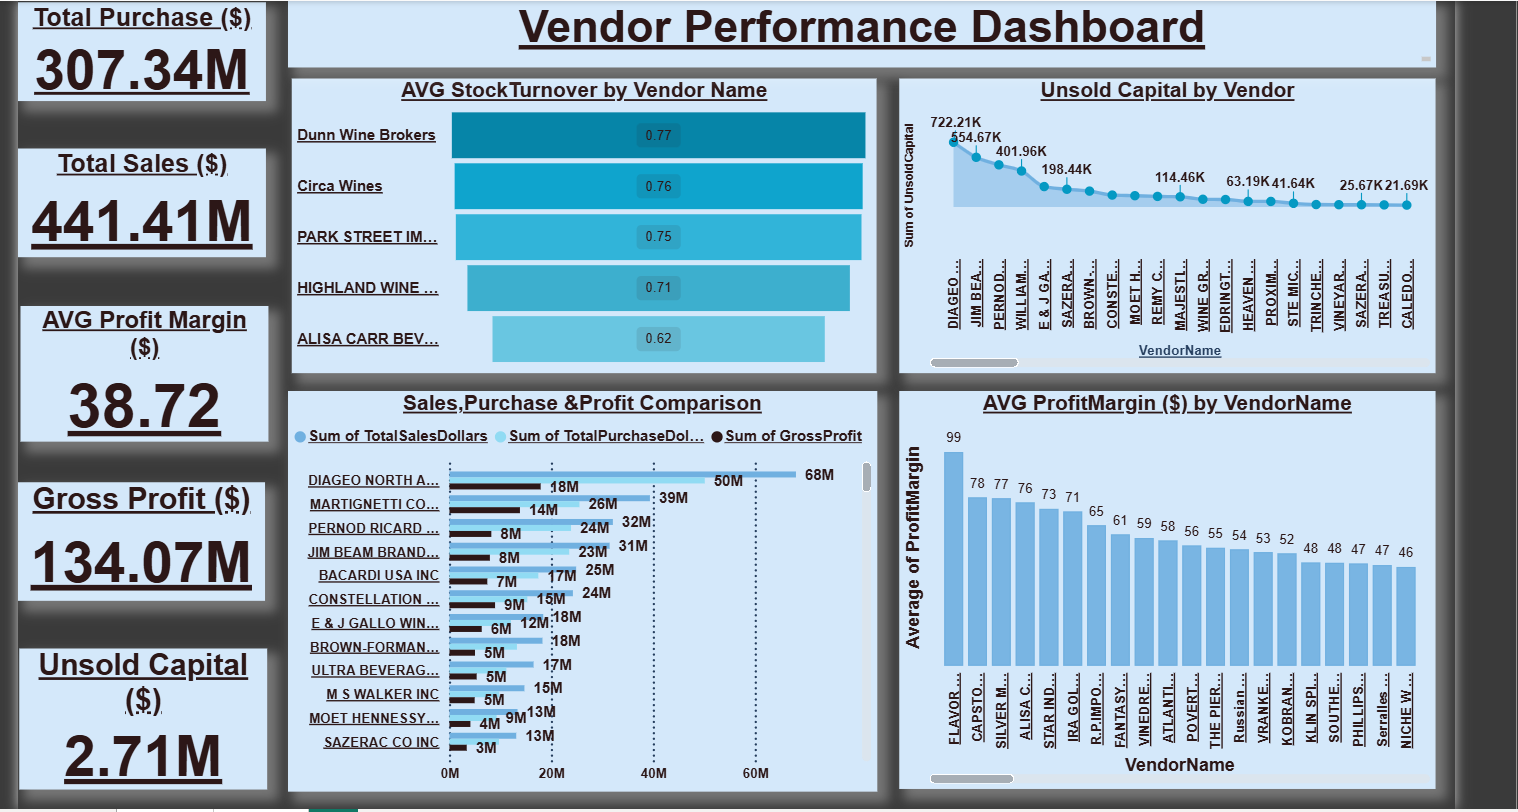

What the dashboard file says about the page in this screenshot:
{"tool":"powerbi","page":{"name":"Page 2","canvas":[1280,720],"ordinal":0},"visuals":[{"type":"card","title":"Total Sales ($)","fields":{"Values":["vendor_sales_summary.TotalSalesDollars"]},"box":[0,131.1,221.1,96.7],"z":0},{"type":"card","title":"Total Purchase ($)","fields":{"Values":["vendor_sales_summary.TotalPurchaseDollars"]},"box":[0,1.1,221.1,87.8],"z":1},{"type":"card","title":"AVG Profit Margin ($)","fields":{"Values":["vendor_sales_summary.ProfitMargin"]},"box":[2.2,271.1,221.1,121.1],"z":2},{"type":"card","title":"Gross Profit ($)","fields":{"Values":["vendor_sales_summary.GrossProfit"]},"box":[0,428.9,220,105.6],"z":3},{"type":"card","title":"Unsold Capital ($)","fields":{"Values":["vendor_sales_summary.UnsoldCapital"]},"box":[1.1,576.7,221.1,125.6],"z":4},{"type":"funnel","title":"AVG StockTurnover  by Vendor Name","fields":{"Category":["LowTurnoverVendor.VendorName"],"Y":["LowTurnoverVendor.AvgStockTurnOver"]},"box":[243.3,68.9,521.1,262.2],"z":5},{"type":"areaChart","title":"Unsold Capital by Vendor","fields":{"Category":["vendor_sales_summary.VendorName"],"Y":["vendor_sales_summary.UnsoldCapital"]},"box":[784.4,68.9,477.8,262.2],"z":6},{"type":"clusteredBarChart","title":"Sales,Purchase &Profit Comparison","fields":{"Category":["vendor_sales_summary.VendorName"],"Y":["vendor_sales_summary.TotalSalesDollars","vendor_sales_summary.TotalPurchaseDollars","vendor_sales_summary.GrossProfit"]},"box":[240,347.8,524.4,356.7],"z":7},{"type":"columnChart","title":"AVG ProfitMargin ($) by VendorName","fields":{"Category":["vendor_sales_summary.VendorName"],"Y":["vendor_sales_summary.ProfitMargin"]},"box":[784.4,347.8,477.8,354.4],"z":8},{"type":"textbox","title":"Vendor Performance Dashboard","box":[240,0,1022.2,58.9],"z":9}]}

Visuals, with their boxes on the page's 1280x720 design canvas (x1, y1, x2, y2). These are canvas units, not pixel positions in the 1518x812 screenshot, which may show the page scaled, cropped or inside an application window:
"Total Sales ($)" card: 0, 131, 221, 228
"Total Purchase ($)" card: 0, 1, 221, 89
"AVG Profit Margin ($)" card: 2, 271, 223, 392
"Gross Profit ($)" card: 0, 429, 220, 534
"Unsold Capital ($)" card: 1, 577, 222, 702
"AVG StockTurnover  by Vendor Name" funnel: 243, 69, 764, 331
"Unsold Capital by Vendor" areaChart: 784, 69, 1262, 331
"Sales,Purchase &Profit Comparison" clusteredBarChart: 240, 348, 764, 704
"AVG ProfitMargin ($) by VendorName" columnChart: 784, 348, 1262, 702
"Vendor Performance Dashboard" textbox: 240, 0, 1262, 59
